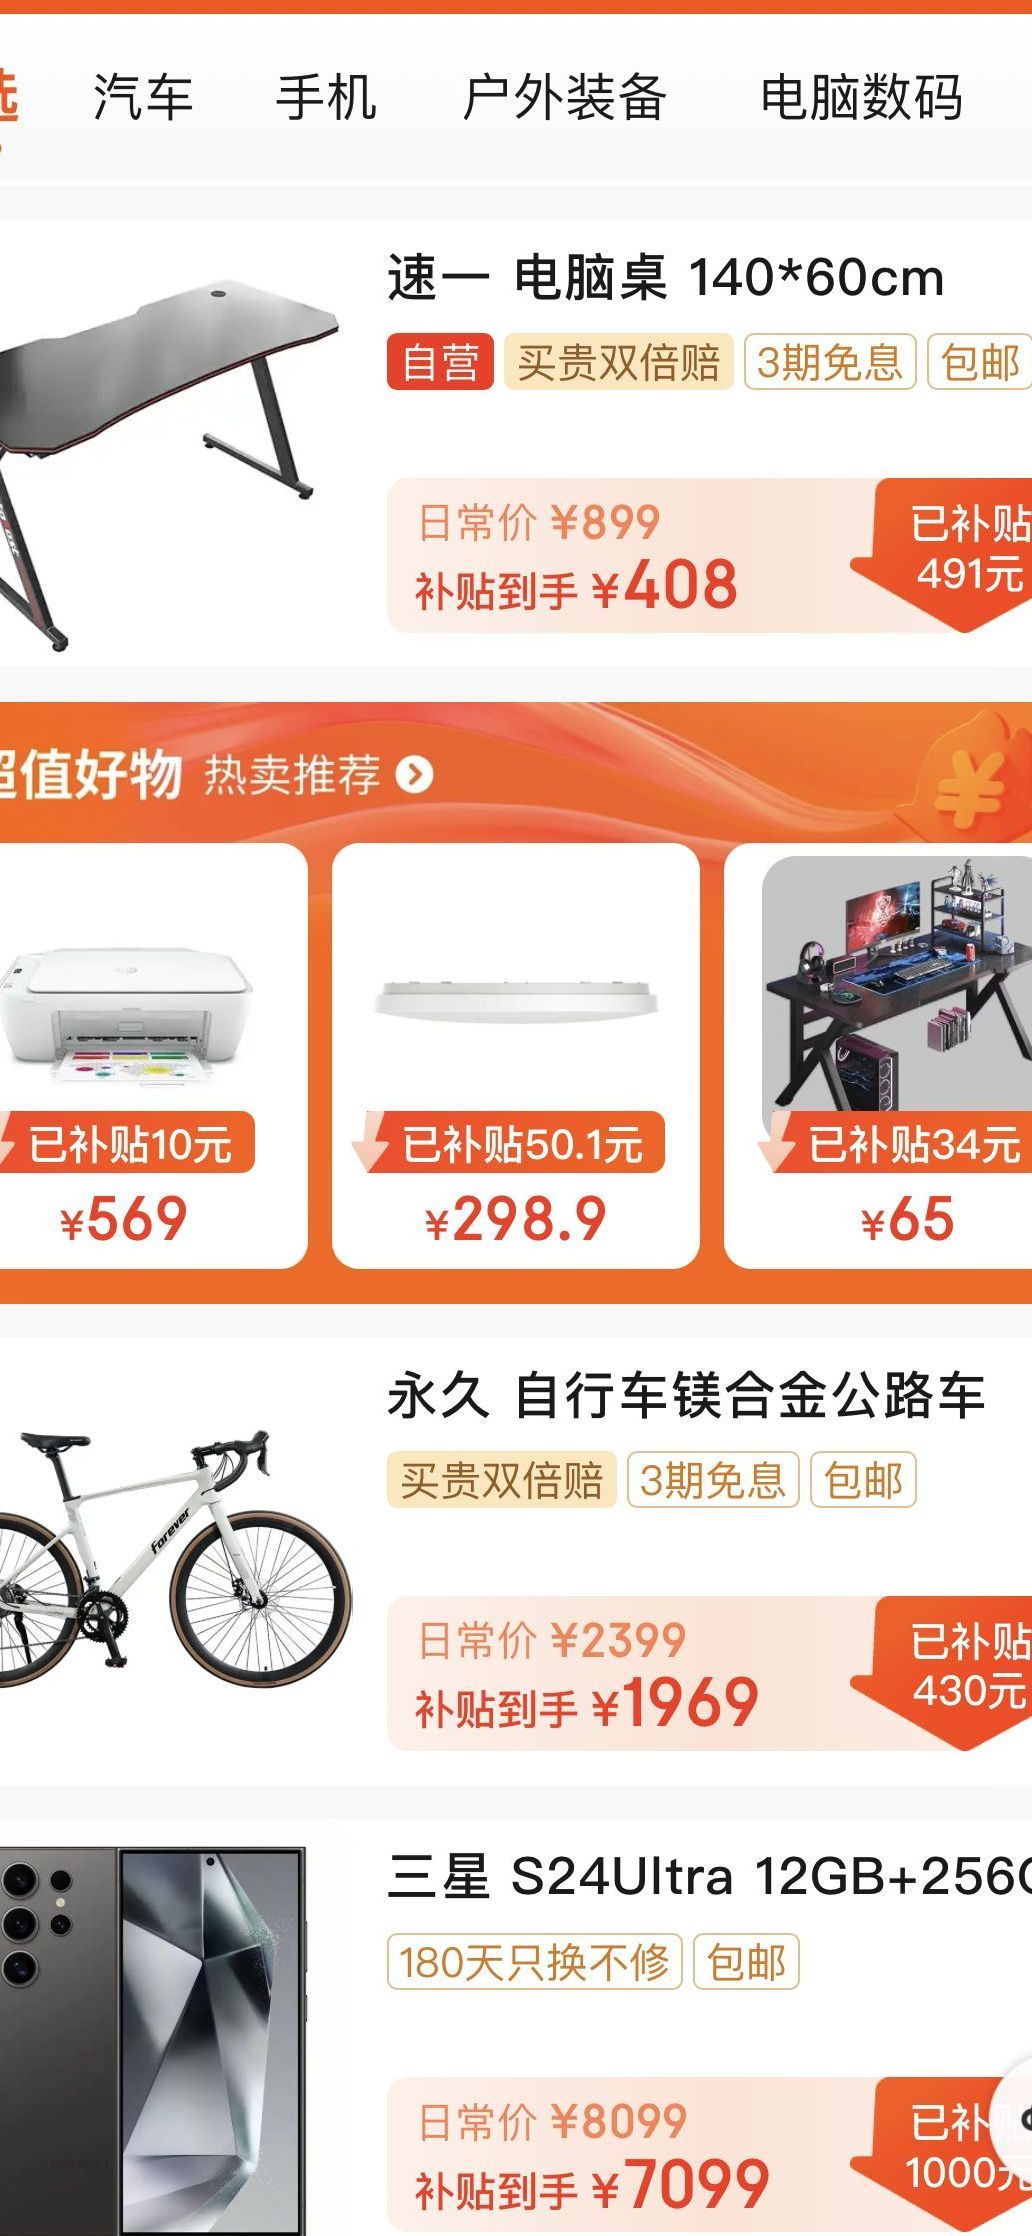banner: (6, 693, 1026, 1298)
item: (3, 1332, 1023, 1783), (11, 1817, 1032, 2236)
